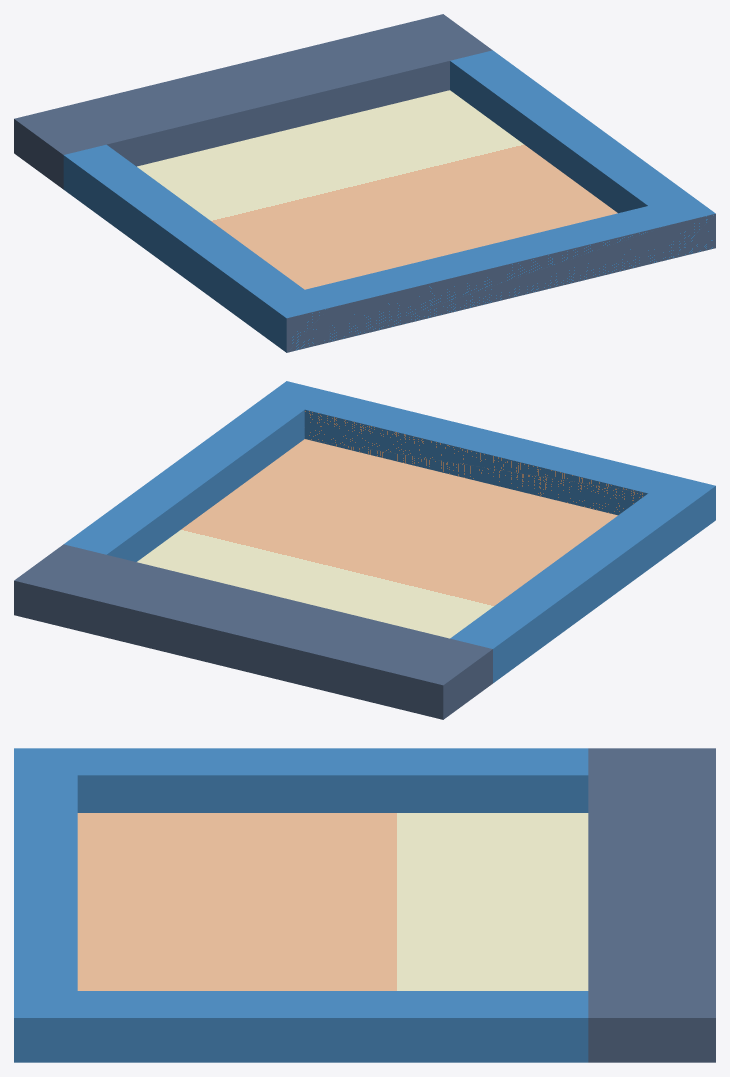
File: Window2.fbx
3 views of the same model, one above another, from view 1: azimuth 30°, elevation 25°; view 2: azimuth 150°, elevation 25°; view 3: azimuth 270°, elevation 25° (orthographic). The views are drawn at different scales.
Parts seen in each view (by area): view 1: Plane.002; view 2: Plane.002; view 3: Plane.002.
Boxes of the visible parts, box(x1,y1,x2,y2) form: Plane.002: box(14, 14, 715, 352); Plane.002: box(14, 381, 715, 719); Plane.002: box(14, 748, 715, 1062).
Bounding box in the file's own units: 0.625 × 0.0481 × 0.6875.
Materials: 1 (1 with a texture image).
